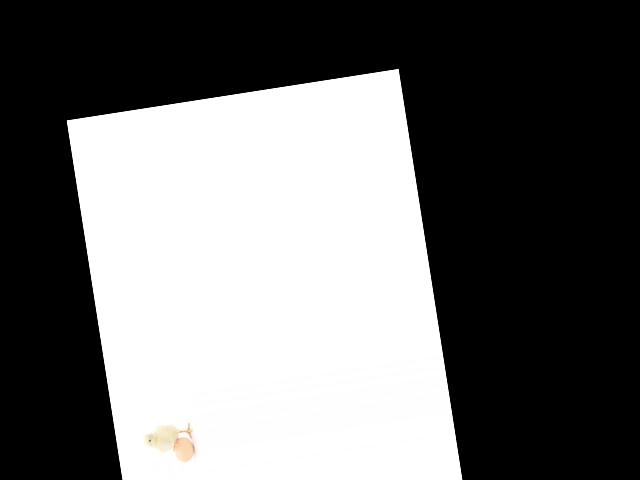egg: (172, 434, 195, 463)
